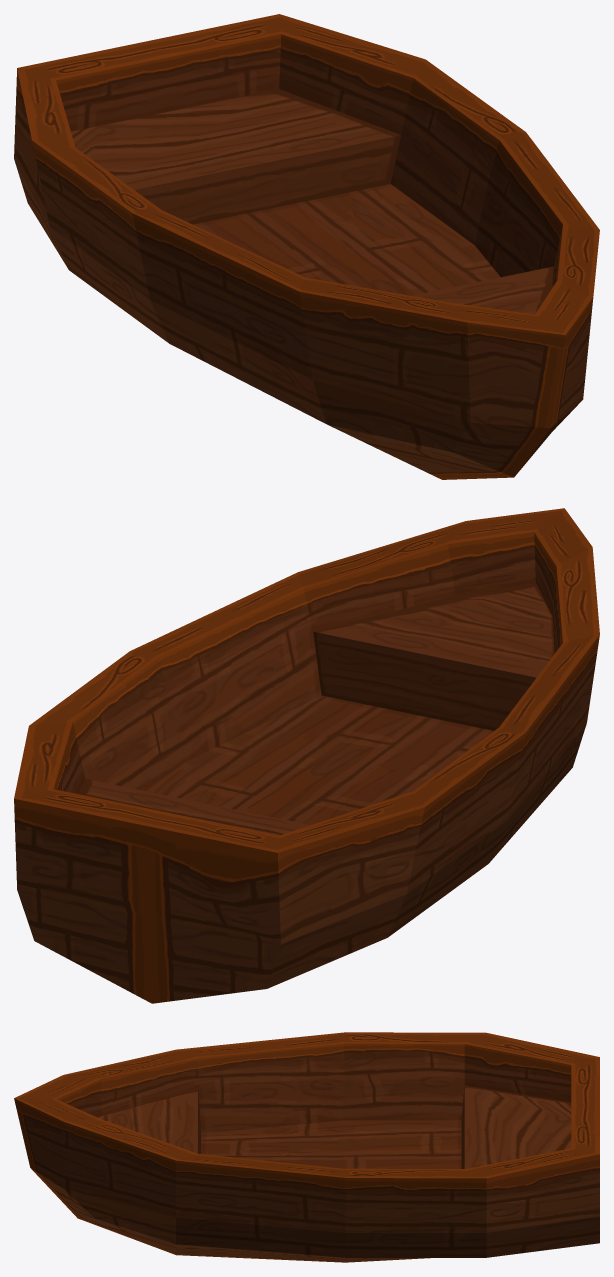
File: Ship.obj
3 views of the same model, one above another, from view 1: azimuth 30°, elevation 25°; view 2: azimuth 150°, elevation 25°; view 3: azimuth 270°, elevation 25° (orthographic). The views are drawn at different scales.
Parts seen in each view (by area): view 1: Cube; view 2: Cube; view 3: Cube.
Part boxes in pixels (x1=…): Cube: x1=14, y1=14, x2=599, y2=479; Cube: x1=14, y1=508, x2=599, y2=1003; Cube: x1=14, y1=1032, x2=599, y2=1262.
Bounding box in the file's own units: 2.31 × 1.35 × 4.24.
1 material, 1 textured.
